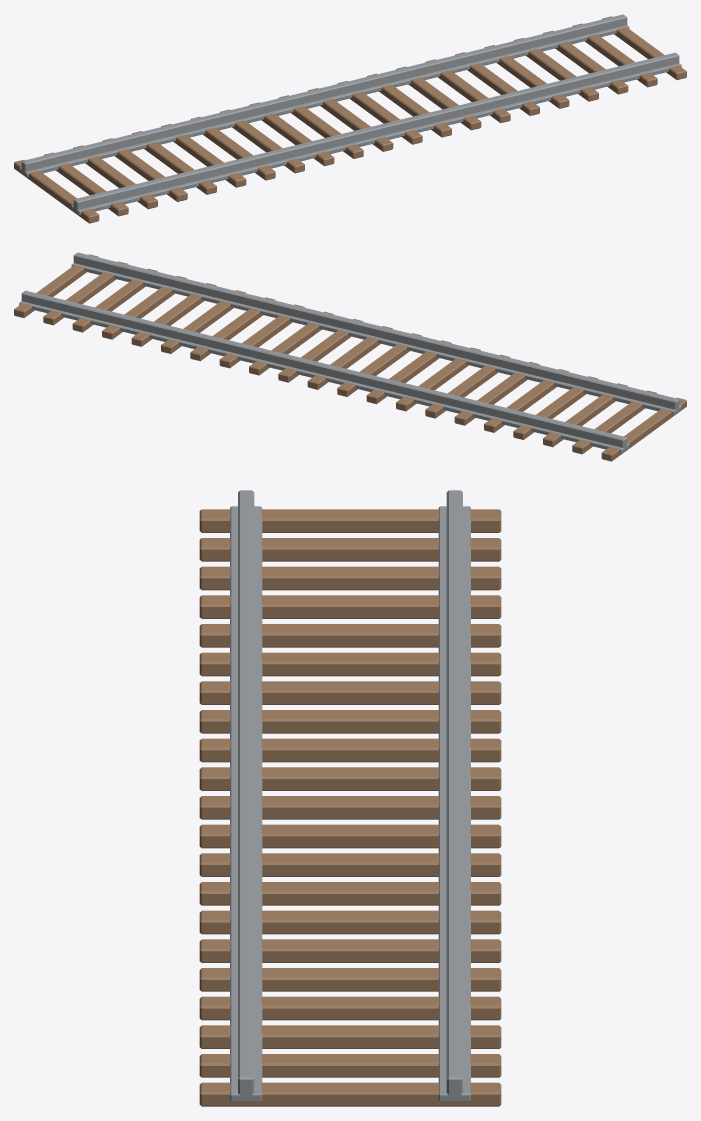
Rendered from RailTrack.glb.
3 views of the same model, one above another, from view 1: azimuth 30°, elevation 25°; view 2: azimuth 150°, elevation 25°; view 3: azimuth 270°, elevation 25° (orthographic). The views are drawn at different scales.
Parts seen in each view (by area): view 1: Rail_Left, Rail_Right, RailFoot_Left, RailFoot_Right, Sleeper_00, Sleeper_06, Sleeper_13, Sleeper_16, Sleeper_10, Sleeper_19, Sleeper_05, Sleeper_09 (+13 smaller); view 2: Rail_Right, Rail_Left, RailFoot_Right, RailFoot_Left, Sleeper_00, Sleeper_06, Sleeper_13, Sleeper_16, Sleeper_10, Sleeper_19, Sleeper_05, Sleeper_09 (+13 smaller); view 3: Rail_Left, Rail_Right, RailFoot_Left, RailFoot_Right, Sleeper_20, Sleeper_02, Sleeper_05, Sleeper_08, Sleeper_11, Sleeper_14, Sleeper_17, Sleeper_00 (+13 smaller).
Boxes of the visible parts, left/top/right/bottom form: Rail_Left: left=73, top=52, right=679, bottom=210; Rail_Right: left=21, top=14, right=627, bottom=171; RailFoot_Left: left=71, top=63, right=681, bottom=215; RailFoot_Right: left=19, top=25, right=629, bottom=176; Sleeper_00: left=14, top=159, right=99, bottom=223; Sleeper_06: left=190, top=116, right=275, bottom=180; Sleeper_13: left=396, top=66, right=481, bottom=130; Sleeper_16: left=484, top=45, right=569, bottom=108; Sleeper_10: left=308, top=88, right=393, bottom=151; Sleeper_19: left=572, top=23, right=657, bottom=87; Sleeper_05: left=161, top=124, right=246, bottom=187; Sleeper_09: left=279, top=95, right=363, bottom=158; Rail_Right: left=21, top=290, right=627, bottom=448; Rail_Left: left=73, top=252, right=679, bottom=409; RailFoot_Right: left=19, top=301, right=629, bottom=453; RailFoot_Left: left=71, top=263, right=681, bottom=414; Sleeper_00: left=601, top=397, right=686, bottom=461; Sleeper_06: left=425, top=354, right=510, bottom=418; Sleeper_13: left=219, top=304, right=304, bottom=368; Sleeper_16: left=131, top=283, right=216, bottom=346; Sleeper_10: left=307, top=326, right=392, bottom=389; Sleeper_19: left=43, top=261, right=128, bottom=325; Sleeper_05: left=454, top=362, right=539, bottom=425; Sleeper_09: left=337, top=333, right=421, bottom=396; Rail_Left: left=238, top=490, right=254, bottom=1096; Rail_Right: left=446, top=490, right=462, bottom=1096; RailFoot_Left: left=230, top=506, right=262, bottom=1101; RailFoot_Right: left=438, top=506, right=470, bottom=1101; Sleeper_20: left=199, top=1082, right=501, bottom=1106; Sleeper_02: left=199, top=566, right=501, bottom=590; Sleeper_05: left=199, top=652, right=501, bottom=676; Sleeper_08: left=199, top=738, right=501, bottom=762; Sleeper_11: left=199, top=824, right=501, bottom=848; Sleeper_14: left=199, top=910, right=501, bottom=934; Sleeper_17: left=199, top=996, right=501, bottom=1020; Sleeper_00: left=199, top=509, right=501, bottom=532.
Bounding box in the file's own units: 12 × 0.3 × 2.6.
